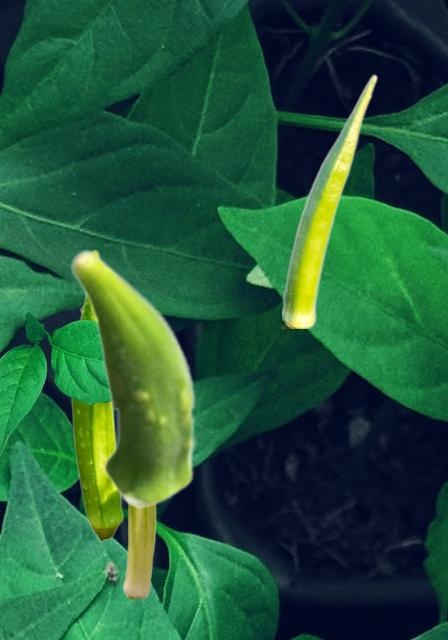okra: (69, 248, 197, 508), (282, 73, 376, 327), (71, 249, 123, 541), (123, 506, 155, 597)
